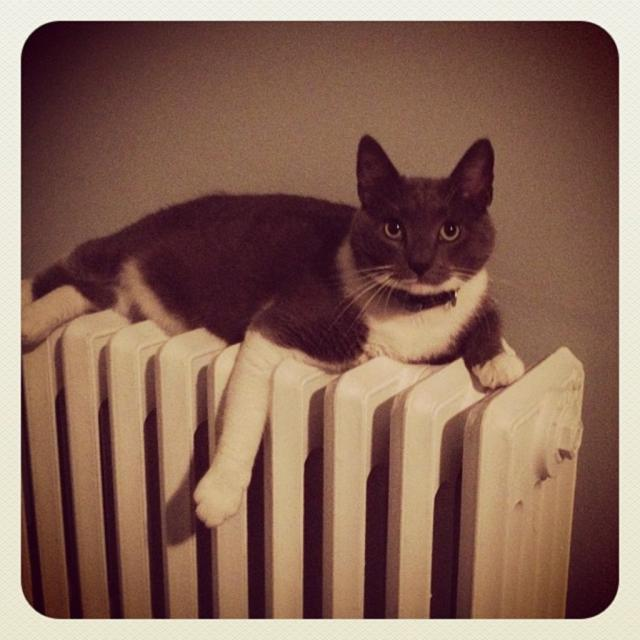Cat: (14, 128, 532, 528)
